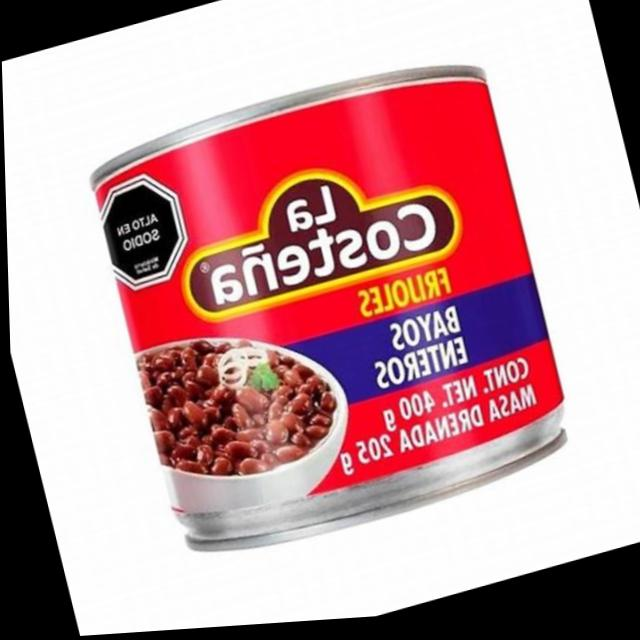Lata: (67, 44, 593, 578)
